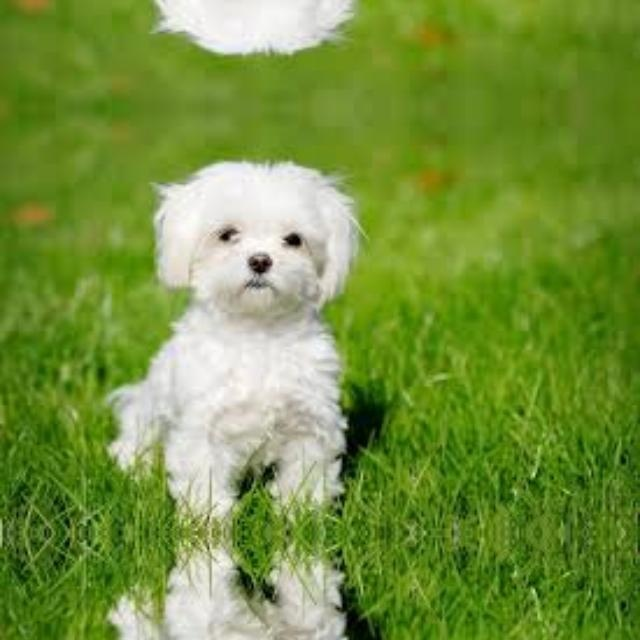dog: (122, 148, 366, 530), (122, 535, 366, 640), (122, 0, 366, 66)
